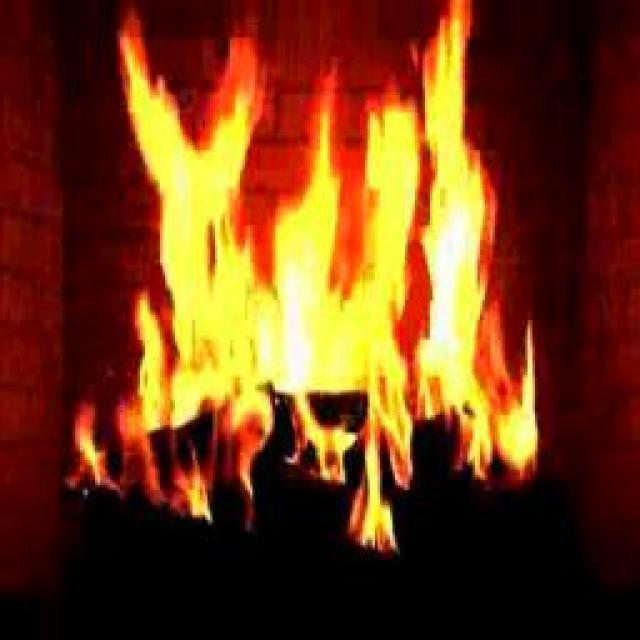Fire: (123, 74, 521, 480)
